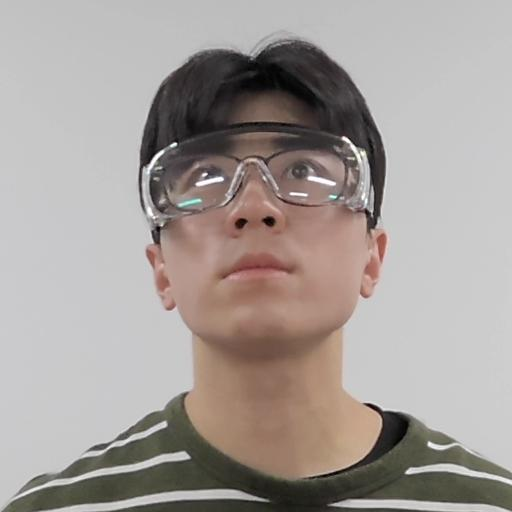glasses: (140, 42, 394, 362)
